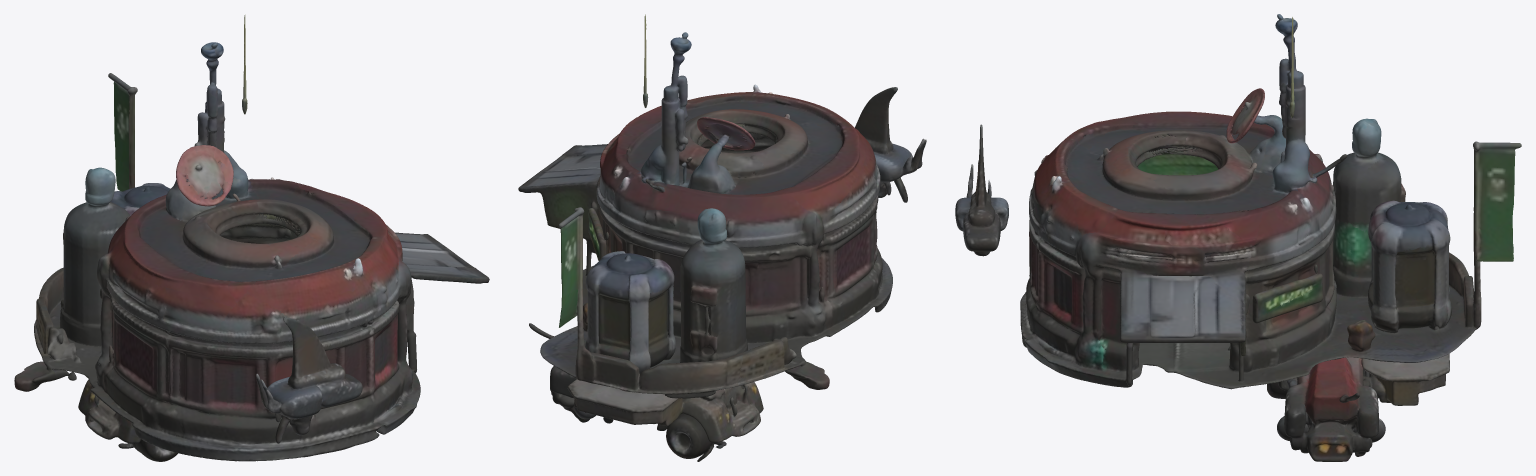
The model's file is tripo_convert_d603da08-67d8-4814-b6a0-49b766873ac9.fbx.
3 views of the same model, side by side, from view 1: azimuth 30°, elevation 25°; view 2: azimuth 150°, elevation 25°; view 3: azimuth 270°, elevation 25° (orthographic). The views are drawn at different scales.
Parts seen in each view (by area): view 1: tripo_node_d603da08; view 2: tripo_node_d603da08; view 3: tripo_node_d603da08.
Part boxes in pixels (bbox=[...]): tripo_node_d603da08: bbox=[14, 14, 489, 461]; tripo_node_d603da08: bbox=[518, 14, 926, 461]; tripo_node_d603da08: bbox=[955, 14, 1521, 461].
Size of the model in its own units: 0.7667 by 0.8344 by 1.
1 material, 1 textured.
